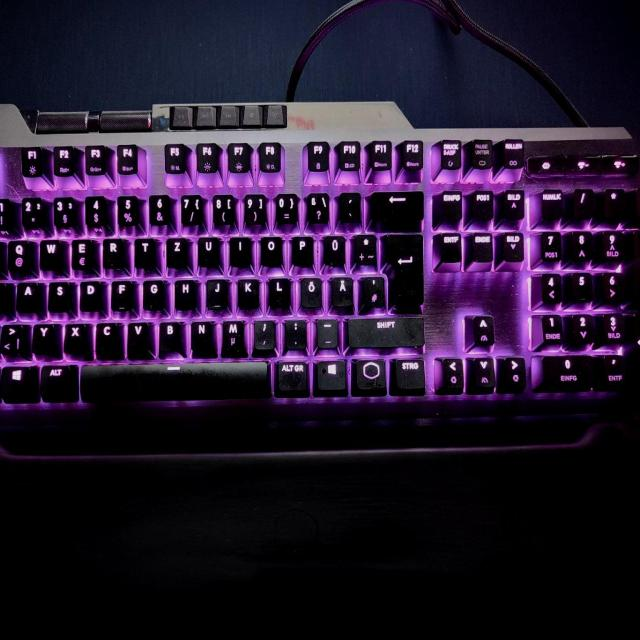0: (274, 190, 297, 226)
1: (0, 195, 13, 230)
2: (21, 194, 47, 228)
3: (52, 195, 80, 230)
4: (85, 193, 107, 227)
5: (116, 192, 142, 231)
6: (147, 191, 171, 225)
7: (179, 192, 202, 226)
8: (211, 192, 235, 228)
9: (242, 192, 266, 227)
a: (16, 279, 39, 312)
accent: (338, 190, 361, 222)
ae: (330, 273, 353, 307)
alt-left: (37, 361, 76, 399)
altgr-right: (273, 357, 309, 395)
b: (157, 318, 181, 352)
c: (94, 320, 120, 357)
caret: (0, 195, 11, 227)
comma: (253, 317, 275, 350)
d: (78, 278, 101, 310)
del: (368, 189, 424, 222)
e: (70, 236, 94, 269)
enter: (380, 232, 424, 310)
f: (110, 278, 131, 310)
g: (141, 277, 164, 310)
h: (173, 276, 195, 309)
hash: (360, 272, 385, 308)
i: (227, 235, 250, 266)
j: (205, 275, 227, 308)
k: (236, 276, 259, 308)
keyboard: (0, 97, 640, 459)
l: (267, 274, 290, 309)
less: (0, 321, 21, 354)
m: (220, 317, 245, 353)
minus: (316, 315, 338, 347)
n: (189, 317, 213, 352)
o: (259, 234, 283, 266)
oe: (300, 275, 322, 308)
p: (291, 234, 313, 265)
plus: (353, 230, 376, 265)
point: (284, 316, 306, 348)
q: (6, 237, 34, 272)
r: (101, 236, 127, 269)
s: (47, 279, 69, 311)
shift-left: (0, 322, 16, 356)
shift-lock: (0, 279, 24, 313)
shift-right: (346, 315, 424, 347)
space: (78, 359, 270, 399)
ss: (305, 190, 329, 224)
strg-left: (0, 365, 21, 404)
strg-right: (392, 356, 425, 391)
t: (134, 236, 155, 268)
tab: (0, 237, 20, 276)
u: (196, 234, 219, 267)
ue: (322, 233, 345, 265)
v: (126, 319, 148, 354)
w: (39, 237, 61, 269)
x: (62, 320, 90, 356)
y: (31, 322, 53, 355)
z: (165, 235, 187, 267)
